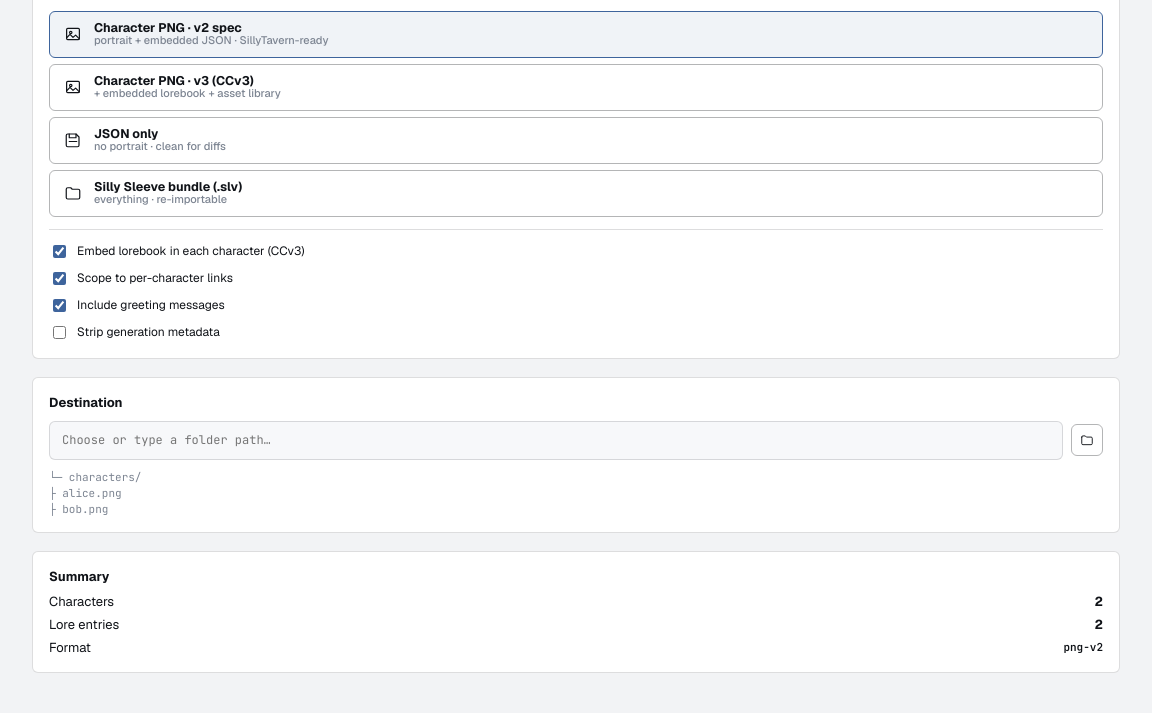
Test: ExportScreen › exports characters via ExportCharactersBulk and toasts success
(page scrolled)
In the field with placeholder "Choose or type a folder path…": (556, 440) x1=49 y1=421 x2=1063 y2=460, type "/out"
(page scrolled)
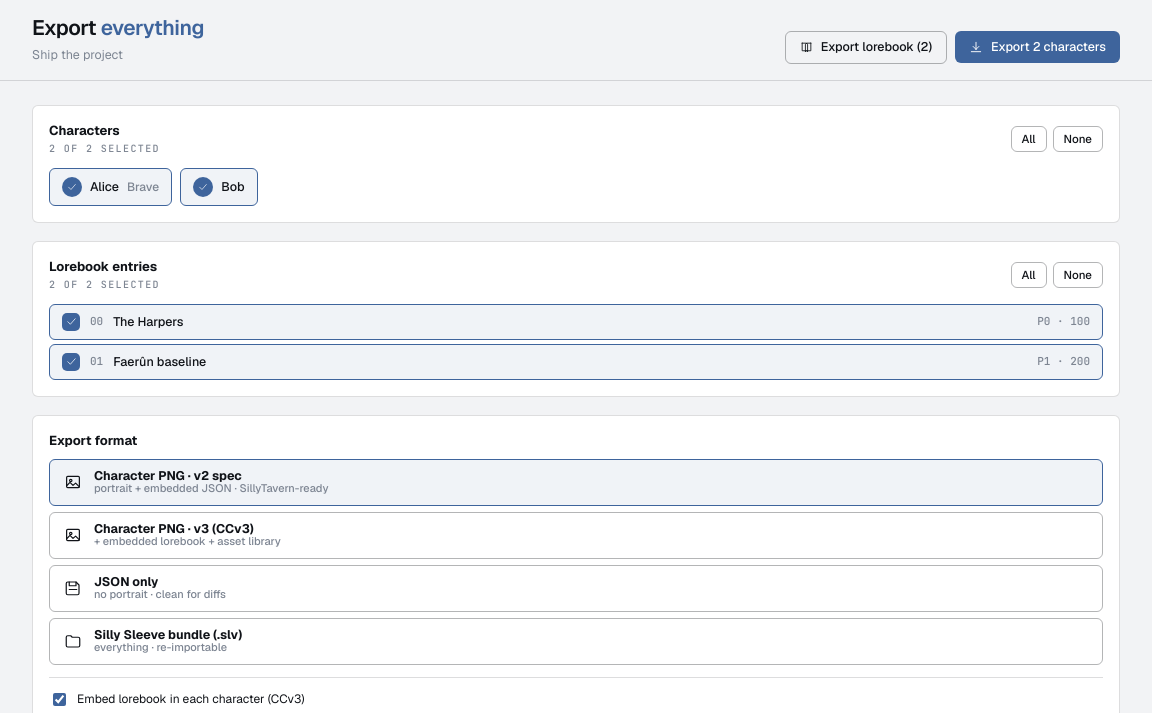
Click the button "Export 2 characters": click(1038, 47) x1=955 y1=31 x2=1120 y2=63
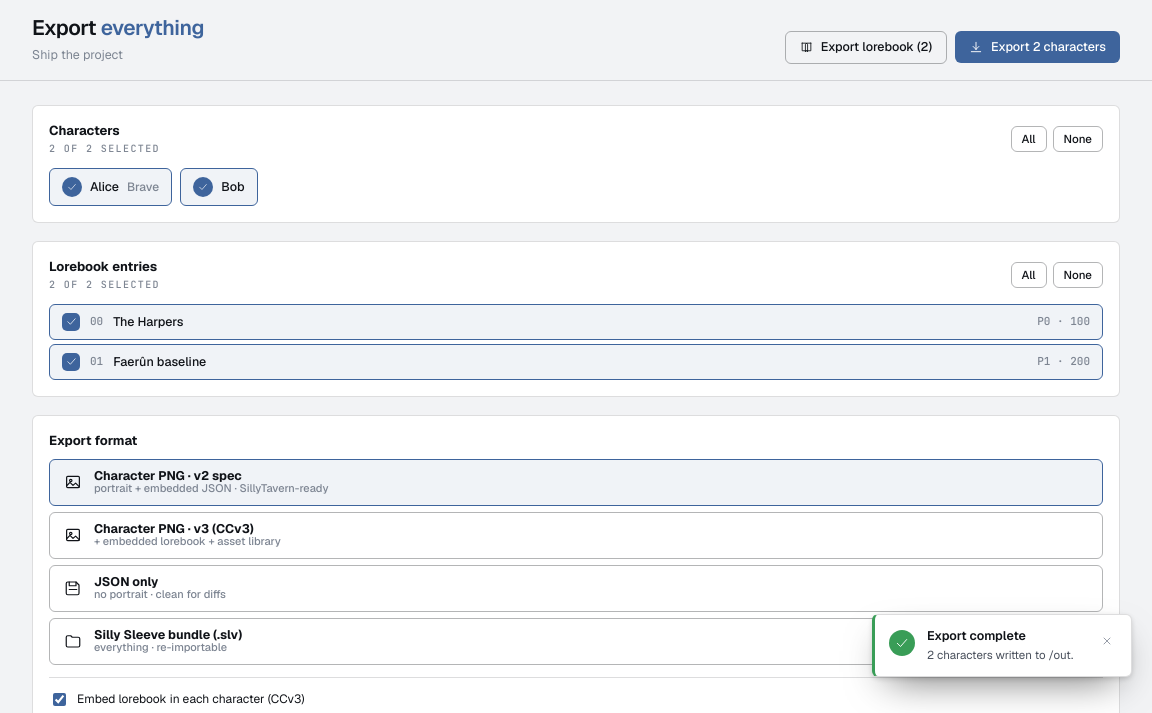
expect the text "Export complete" is shown: met, box x1=927 y1=627 x2=1026 y2=644
